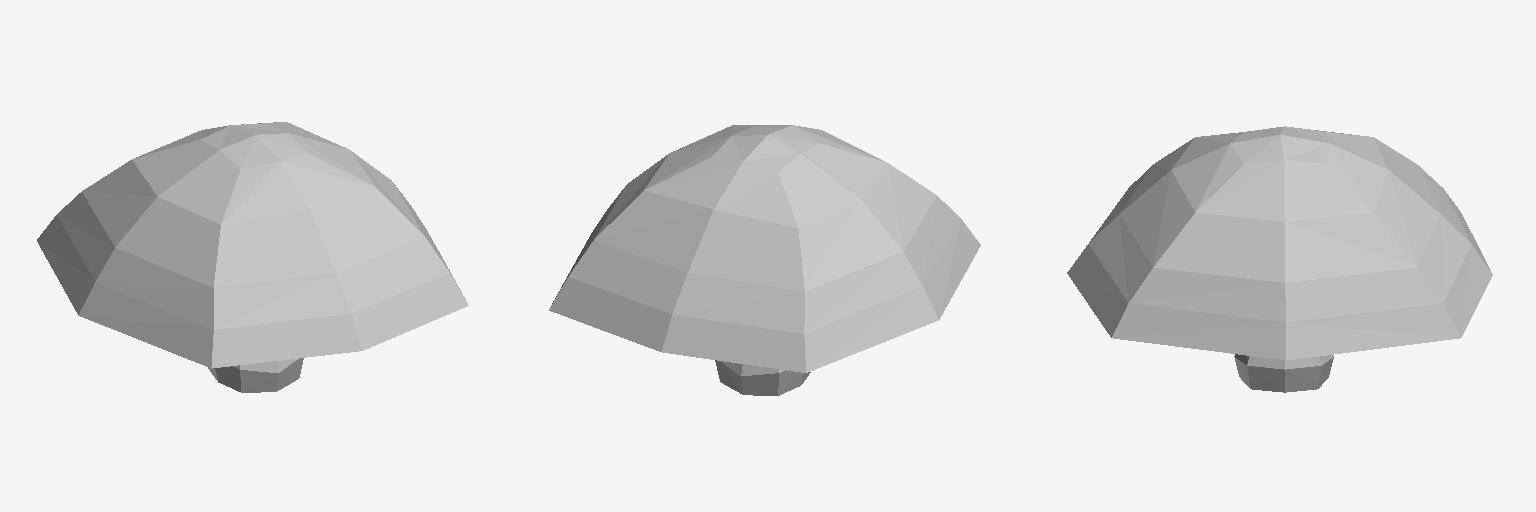
File: Mushroom.obj
The picture shows the model from 3 angles: view 1: azimuth 30°, elevation 25°; view 2: azimuth 150°, elevation 25°; view 3: azimuth 270°, elevation 25°; orthographic projection.
Parts seen in each view (by area): view 1: pCube1; view 2: pCube1; view 3: pCube1.
Boxes of the visible parts, x1=… form: pCube1: x1=37, y1=122, x2=468, y2=392; pCube1: x1=549, y1=125, x2=980, y2=395; pCube1: x1=1067, y1=126, x2=1492, y2=392.
Bounding box in the file's own units: 5.28 × 3.51 × 5.58.